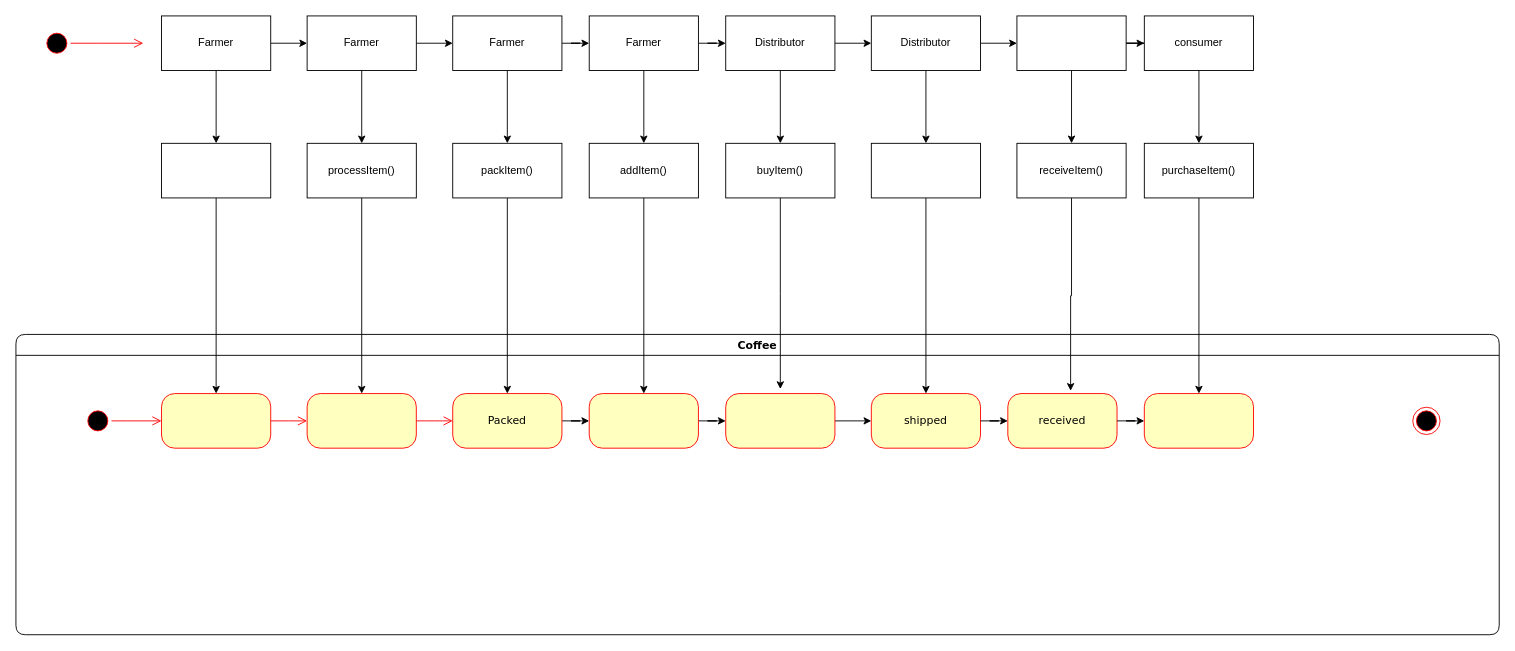
This 1515x651 diagram has some shape labels left out. The shapes that lost their labels are listed below. From the top down, each one's centre as x and y in pixels, then its label:
At pixel 1071 43: "Retailer".
At pixel 216 170: "harvestItem()".
At pixel 925 170: "shipItem()".
At pixel 216 420: "Harvested".
At pixel 361 420: "Processed".
At pixel 643 420: "ForSale".
At pixel 780 420: "Sold".
At pixel 1198 420: "purchased".
